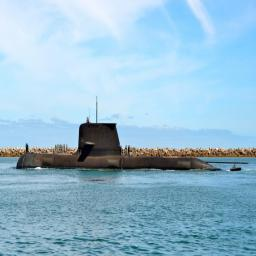submarine: (17, 99, 221, 172)
